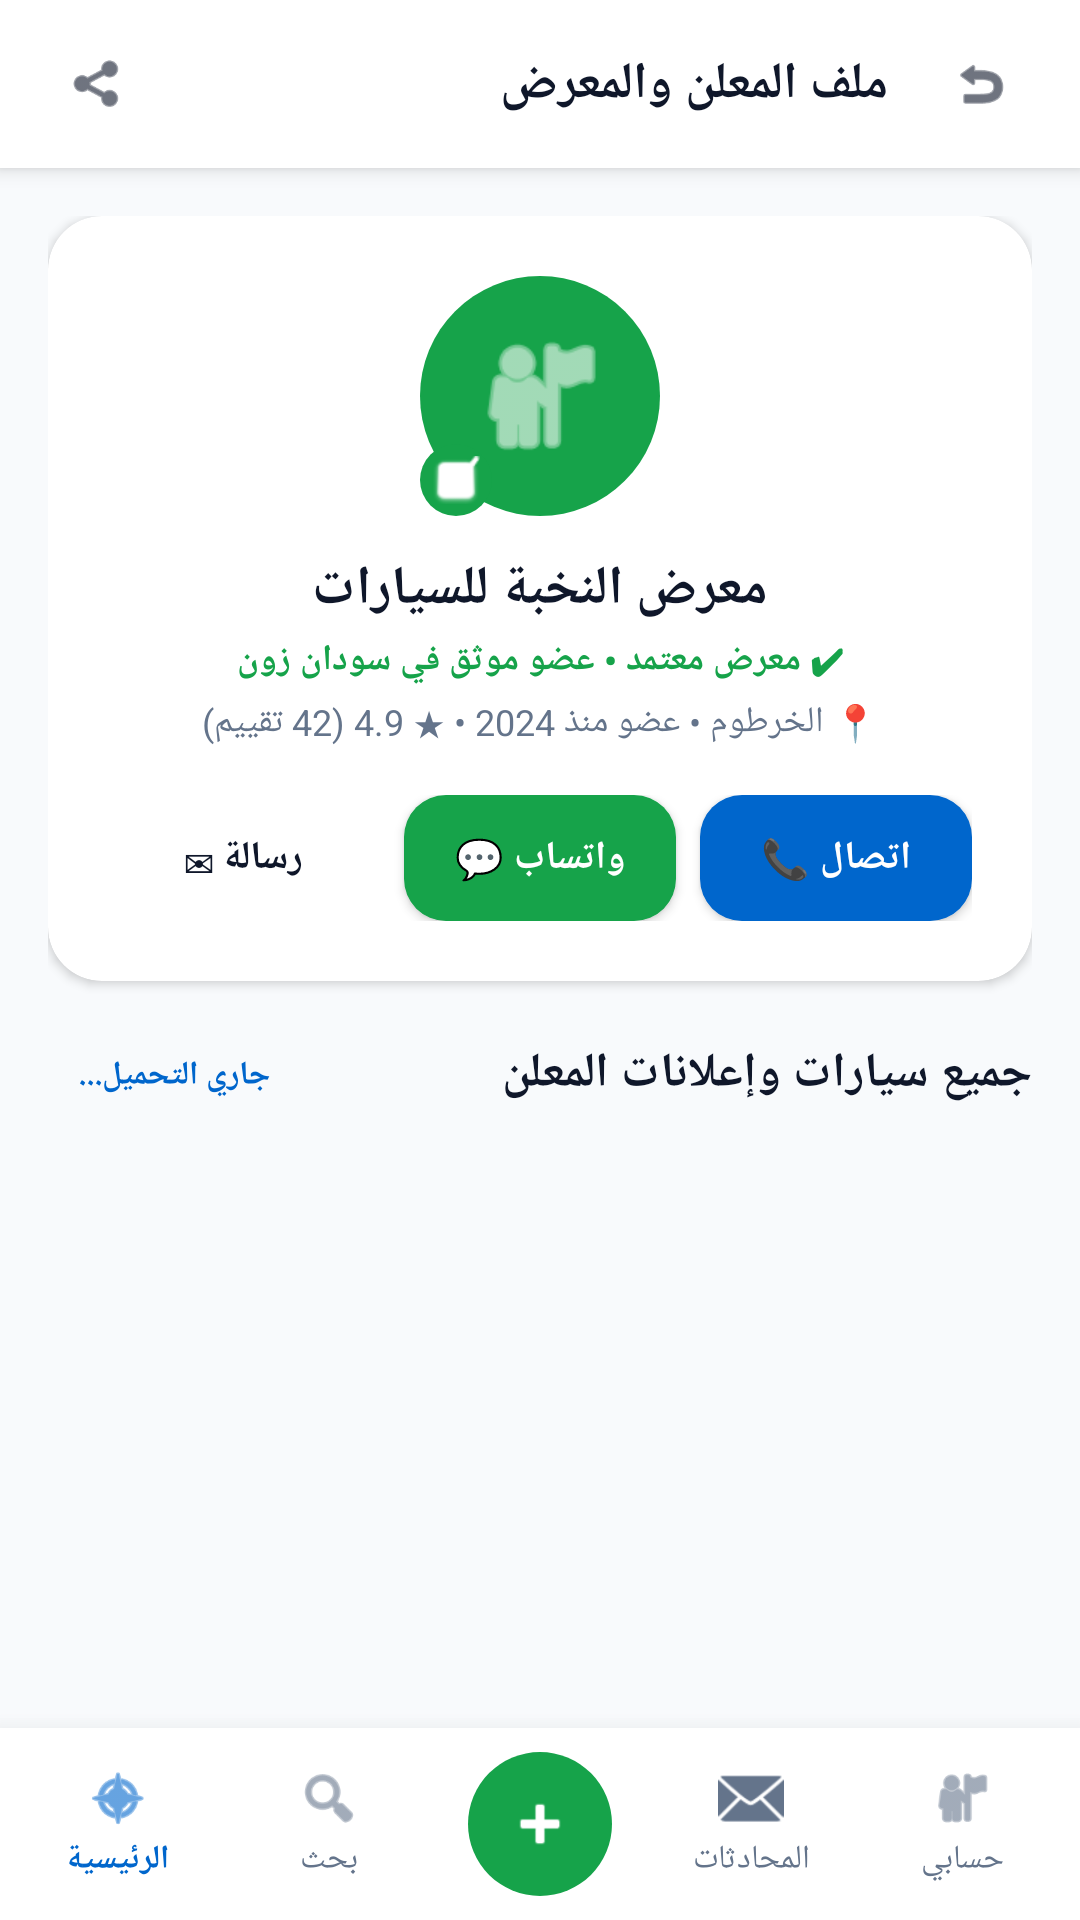

Icon click points for this 1080 x 1920 phone screenshot, format point (x, y):
compass: point (118, 1798)
email: point (751, 1798)
revert: point (981, 84)
share: point (95, 83)
إضافة إعلان: point (540, 1824)
